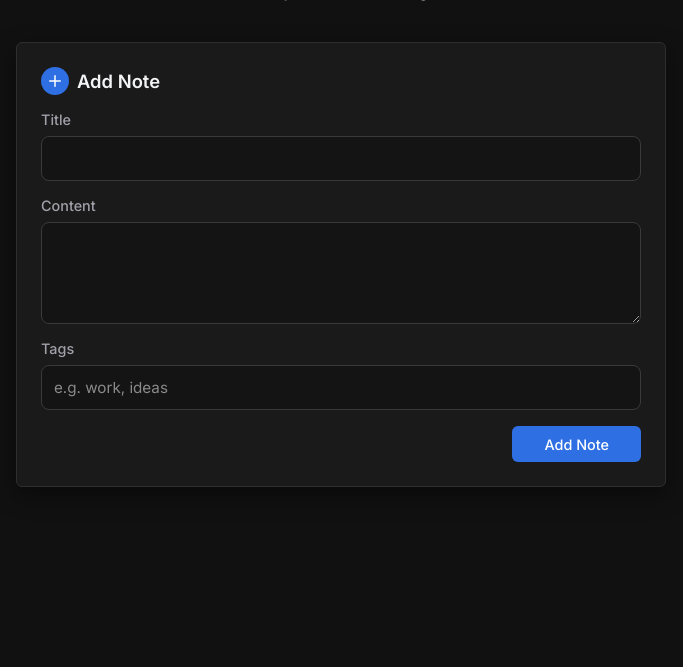
Test: Edit note › pre-fills the form when edit button is clicked
Type "React practice" into the field labelled "Title".
click(341, 158); type("React practice")  # box [41,136,641,181]
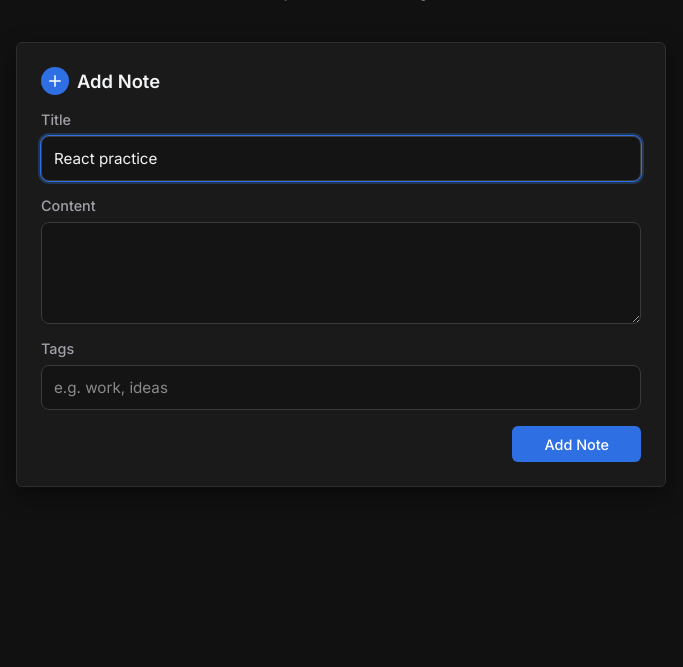
Type "Review forms and state" into the text box labelled "Content".
click(341, 273); type("Review forms and state")  # box [41,222,641,324]
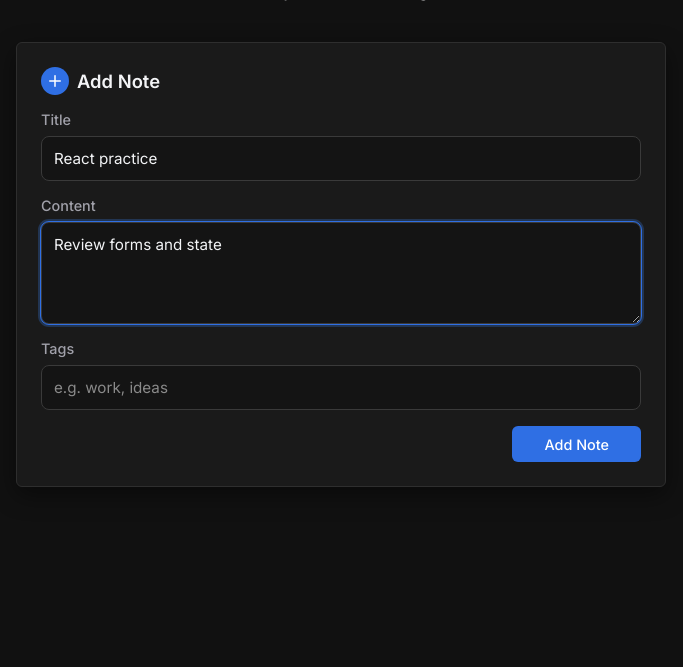
Type "react, study" into the field labelled "Tags".
click(341, 388); type("react, study")  # box [41,365,641,410]
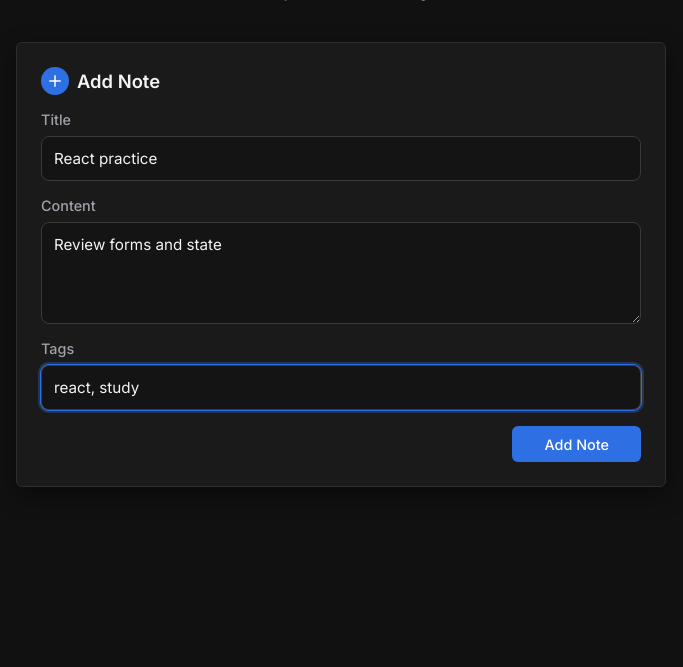
Click the button "Add Note".
click(577, 444)  # box [512,426,641,462]
(page scrolled)
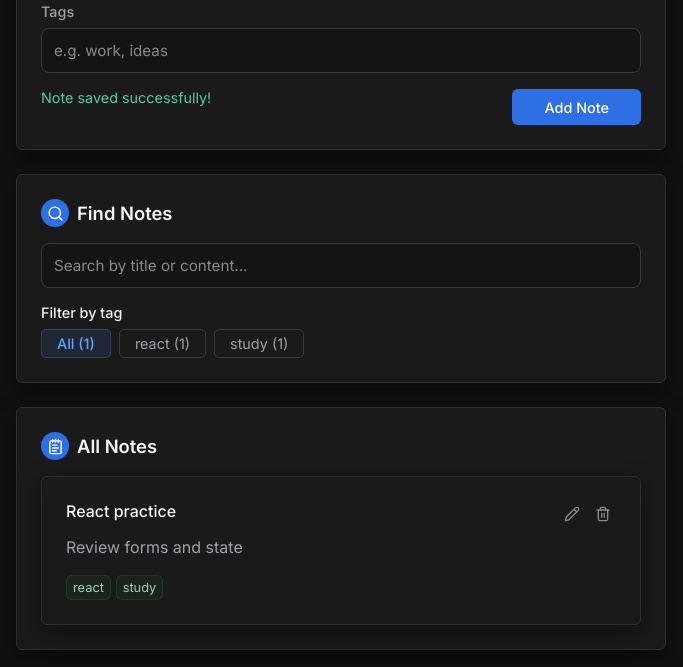
Now the text "React practice" is shown, box [66,501,176,521]
Click the button named "Edit React practice".
click(572, 514)  # box [559,501,585,527]
(page scrolled)
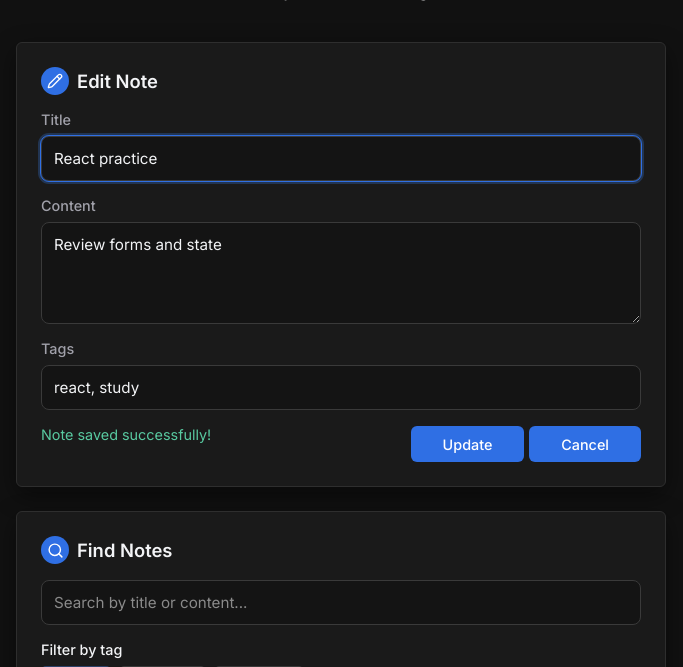
Now the field labelled "Title" holds "React practice", box [41,136,641,181]
Now the text box labelled "Content" holds "Review forms and state", box [41,222,641,324]
Now the field labelled "Tags" holds "react, study", box [41,365,641,410]
